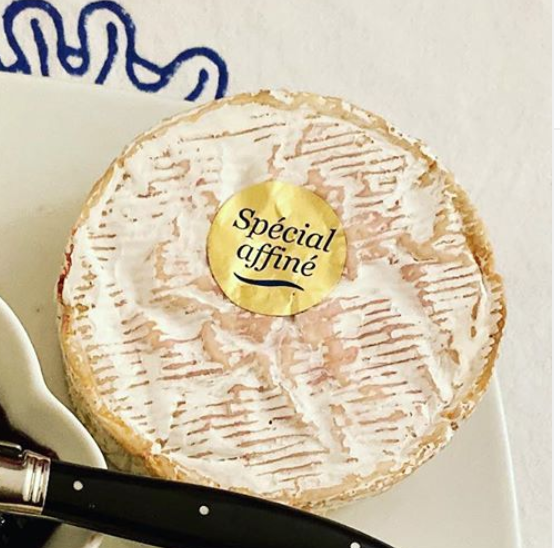camembert: (53, 88, 508, 518)
